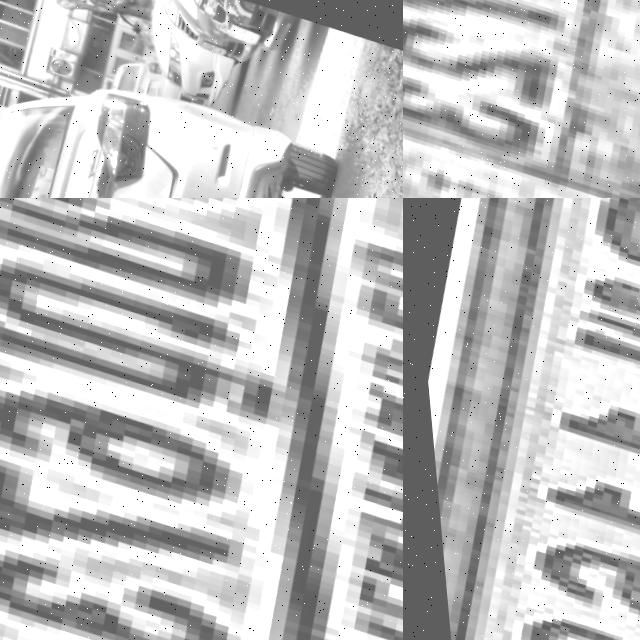license-plate: (0, 198, 403, 640), (403, 198, 640, 640), (403, 0, 640, 198), (221, 14, 264, 41), (193, 34, 222, 51), (178, 84, 197, 97)
